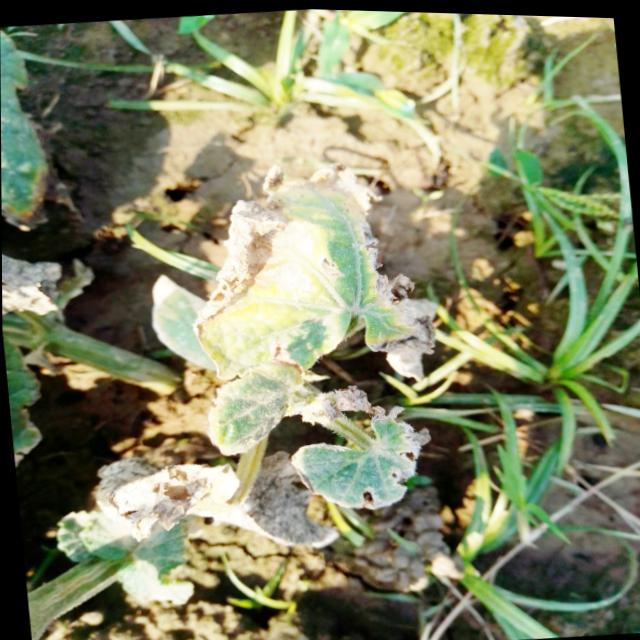Bacterial-Wilt: (95, 451, 340, 549)
